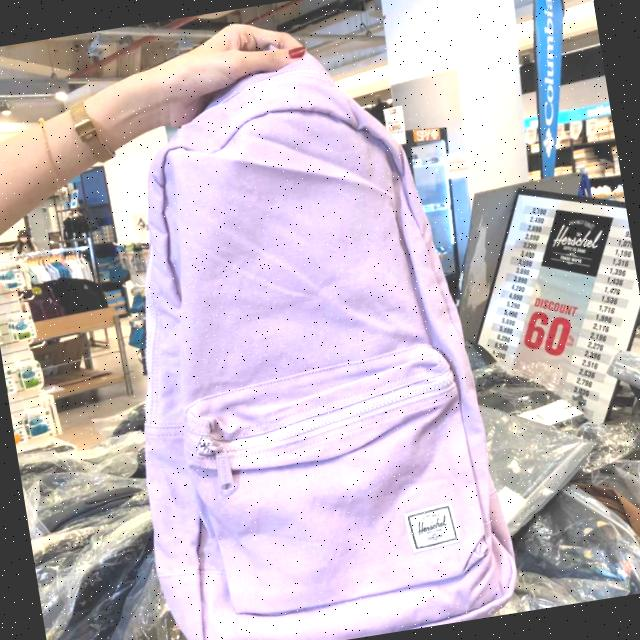Handbag: (99, 54, 523, 640)
